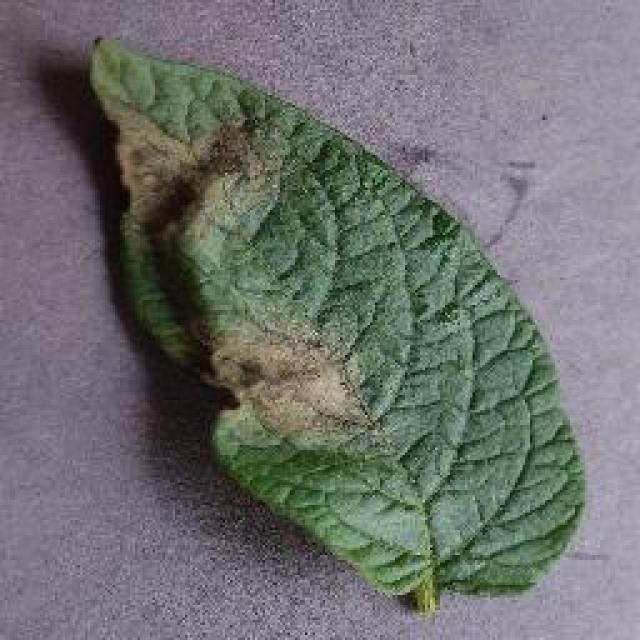late_blight: (80, 30, 590, 618)
